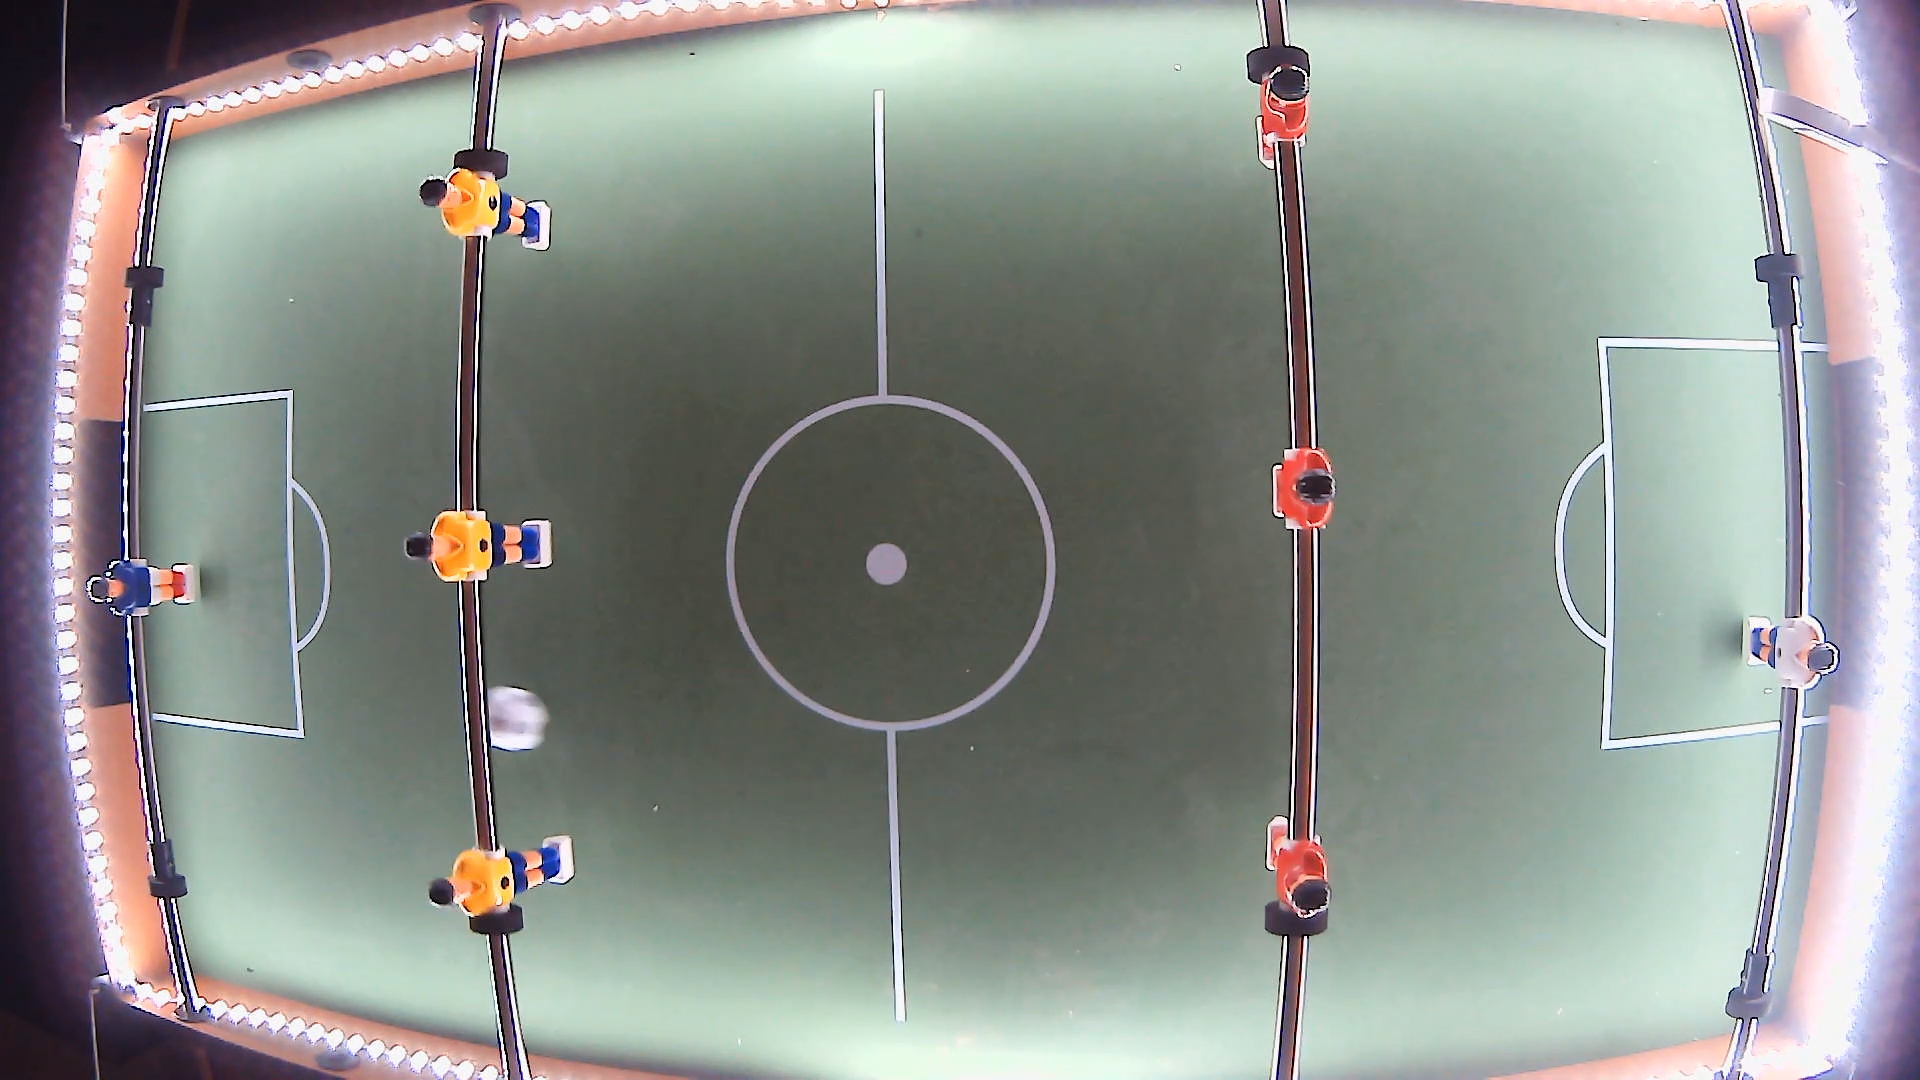Foosball: (473, 687, 549, 752)
